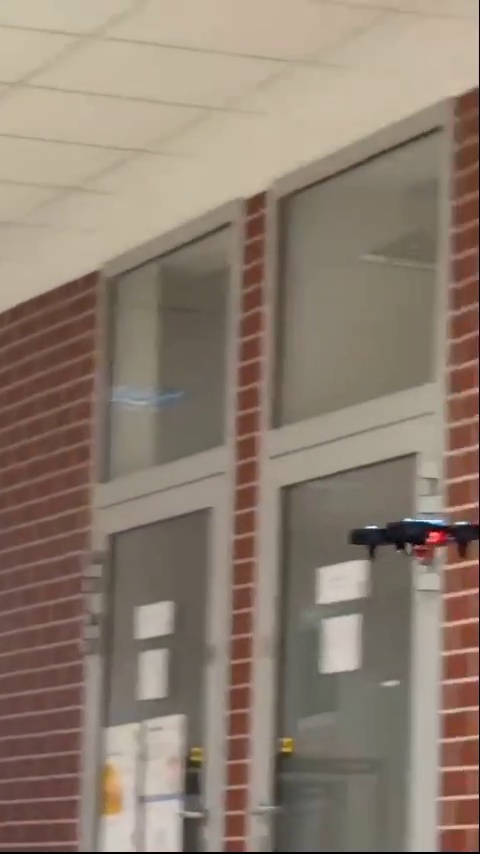drone: (339, 518, 480, 566)
